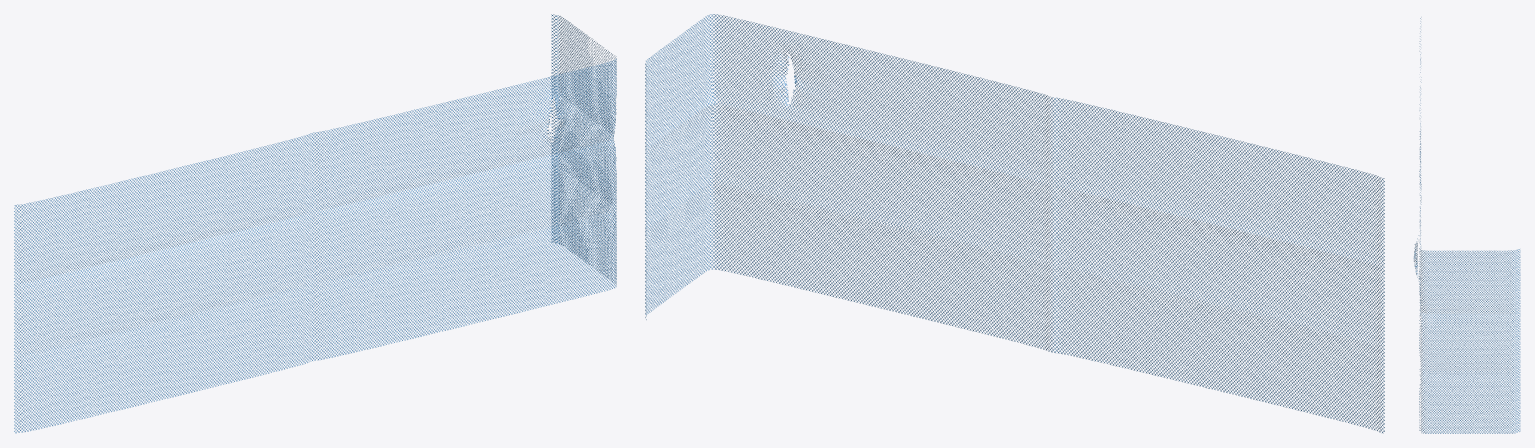
Rendered from SM_tela_rasgada.fbx.
3 renders of one model, left to right at view 1: azimuth 30°, elevation 25°; view 2: azimuth 150°, elevation 25°; view 3: azimuth 270°, elevation 25°, orthographic. The views are drawn at different scales.
Visible parts, largest first — view 1: tela_proteção.rasgada.001, tela_proteção.rasgada.002; view 2: tela_proteção.rasgada.001, tela_proteção.rasgada.002; view 3: tela_proteção.rasgada.001.
Part boxes in pixels (<box>): tela_proteção.rasgada.001: <box>14,14,616,433</box>; tela_proteção.rasgada.002: <box>515,80,576,154</box>; tela_proteção.rasgada.001: <box>645,14,1384,433</box>; tela_proteção.rasgada.002: <box>760,35,828,119</box>; tela_proteção.rasgada.001: <box>1419,17,1520,433</box>.
Bounding box in the file's own units: 6.08 × 1.17 × 2.2.
